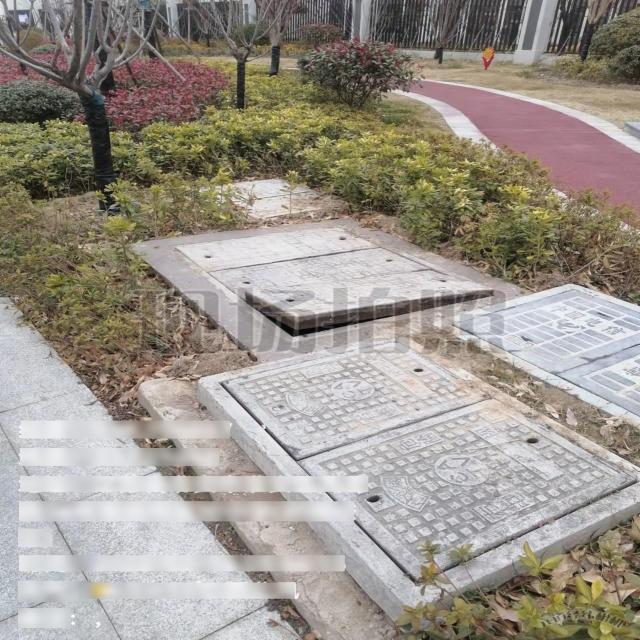Faulty: (169, 222, 501, 342)
Good: (195, 331, 640, 622), (434, 284, 640, 428)
